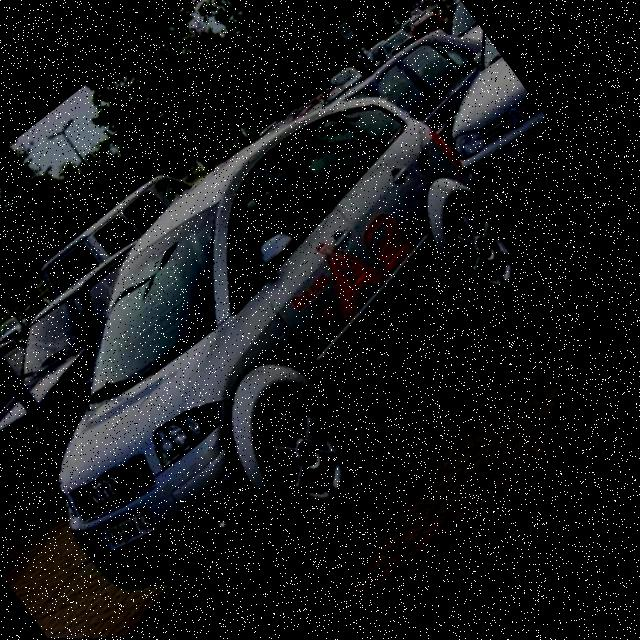license_plate: (110, 498, 191, 566), (502, 116, 568, 173), (22, 458, 54, 484)
